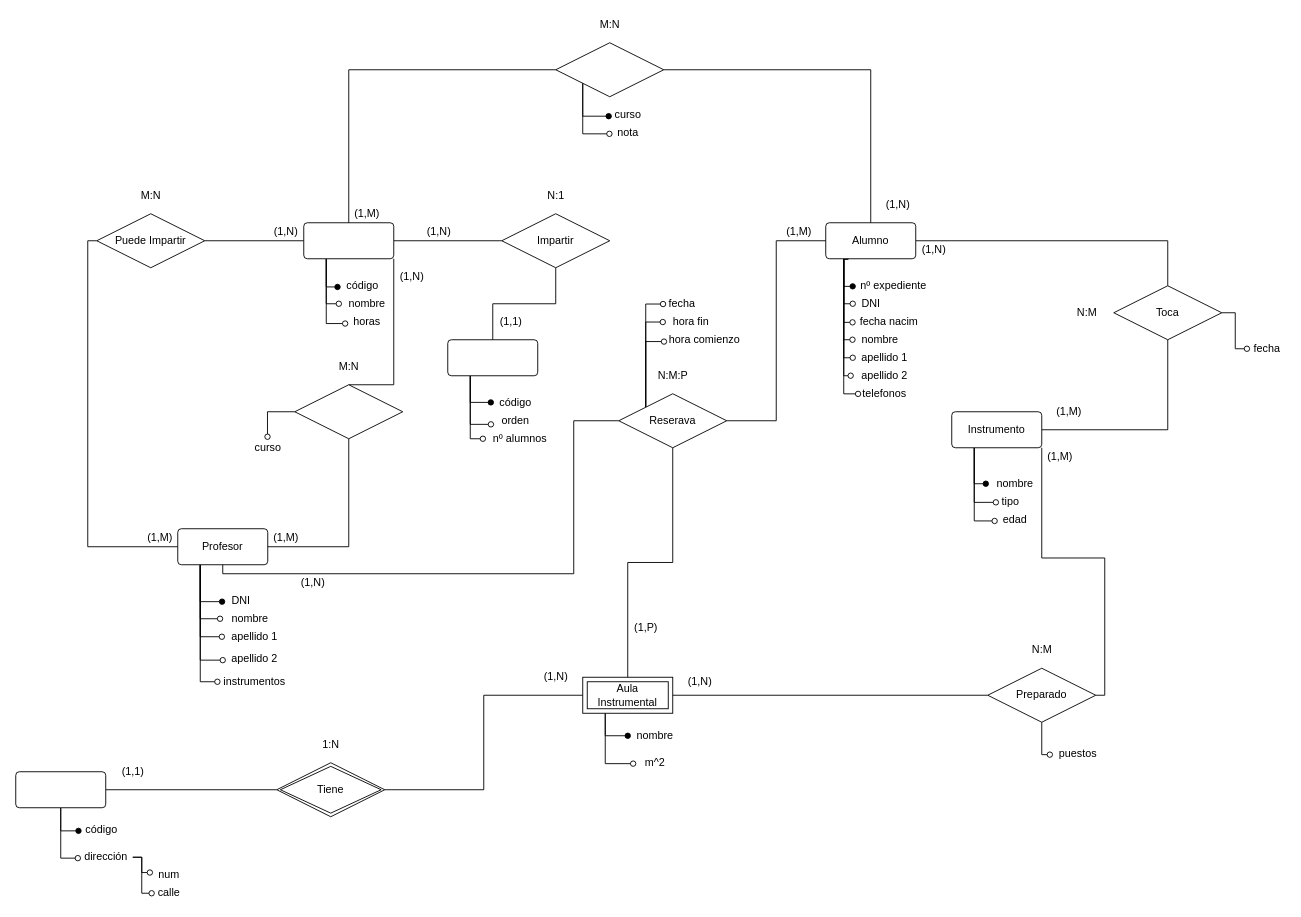
Some shapes in this 1301 by 917 pixel diagram are drawn without their labels. Here are the shapes that lost their labels. From the top down, the box of each, then its label:
(555, 42, 664, 97): Matrícula
(303, 222, 394, 259): Asignatura
(447, 339, 538, 376): Aula Magistral
(294, 384, 403, 439): Imparte
(15, 771, 106, 808): Edificio
